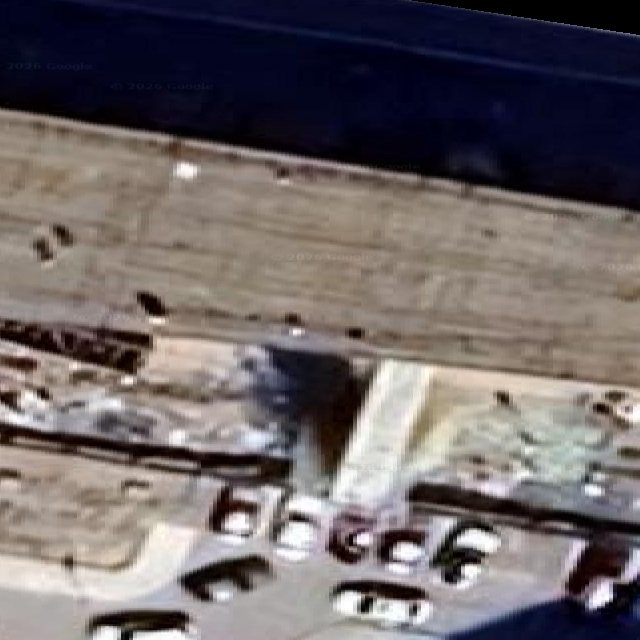car: (564, 540, 636, 611), (332, 580, 432, 627), (431, 520, 500, 587), (180, 555, 272, 602), (85, 609, 198, 639), (271, 495, 322, 560), (209, 484, 260, 544), (328, 508, 375, 563), (377, 527, 424, 572)
